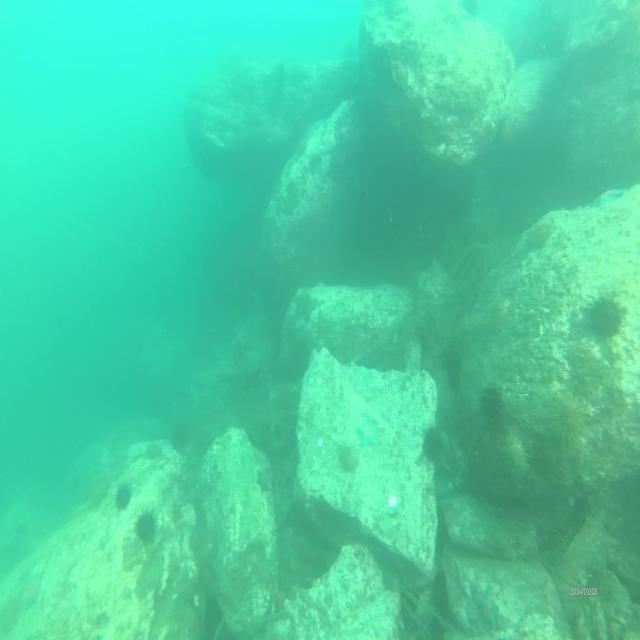echinus: (548, 385, 588, 447), (588, 293, 624, 340), (481, 387, 505, 428), (135, 512, 156, 546), (423, 426, 443, 461), (171, 425, 191, 454), (115, 484, 132, 512)
starfish: (356, 417, 378, 448)
